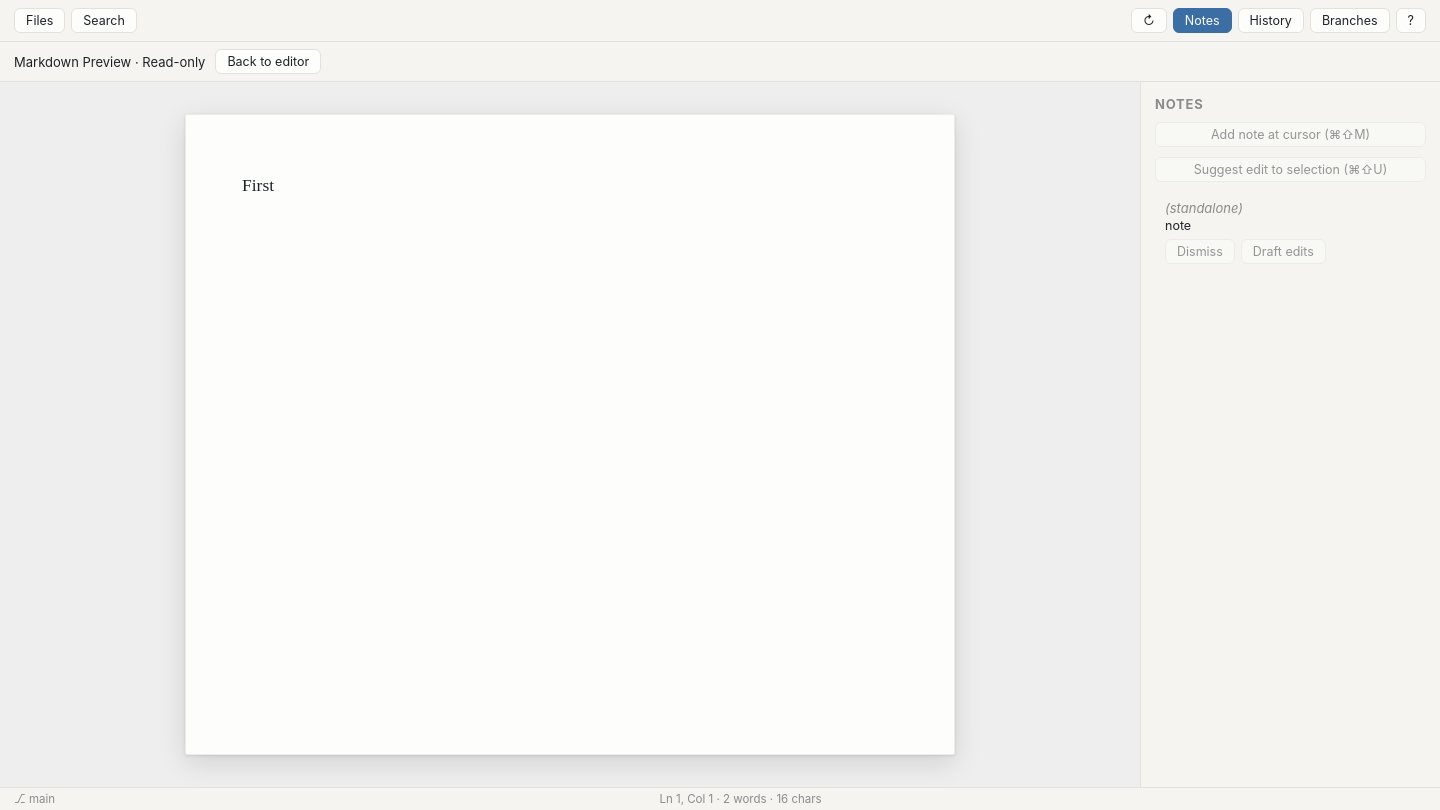
Test: disables note edits in preview and returns to the editor when navigating to a note
expect the button "Dismiss" is disabled: met, box [1165,239,1235,264]
Click the list item "(standalone) note Dismiss Draft edits": (1204,208) [1165,200,1326,264]
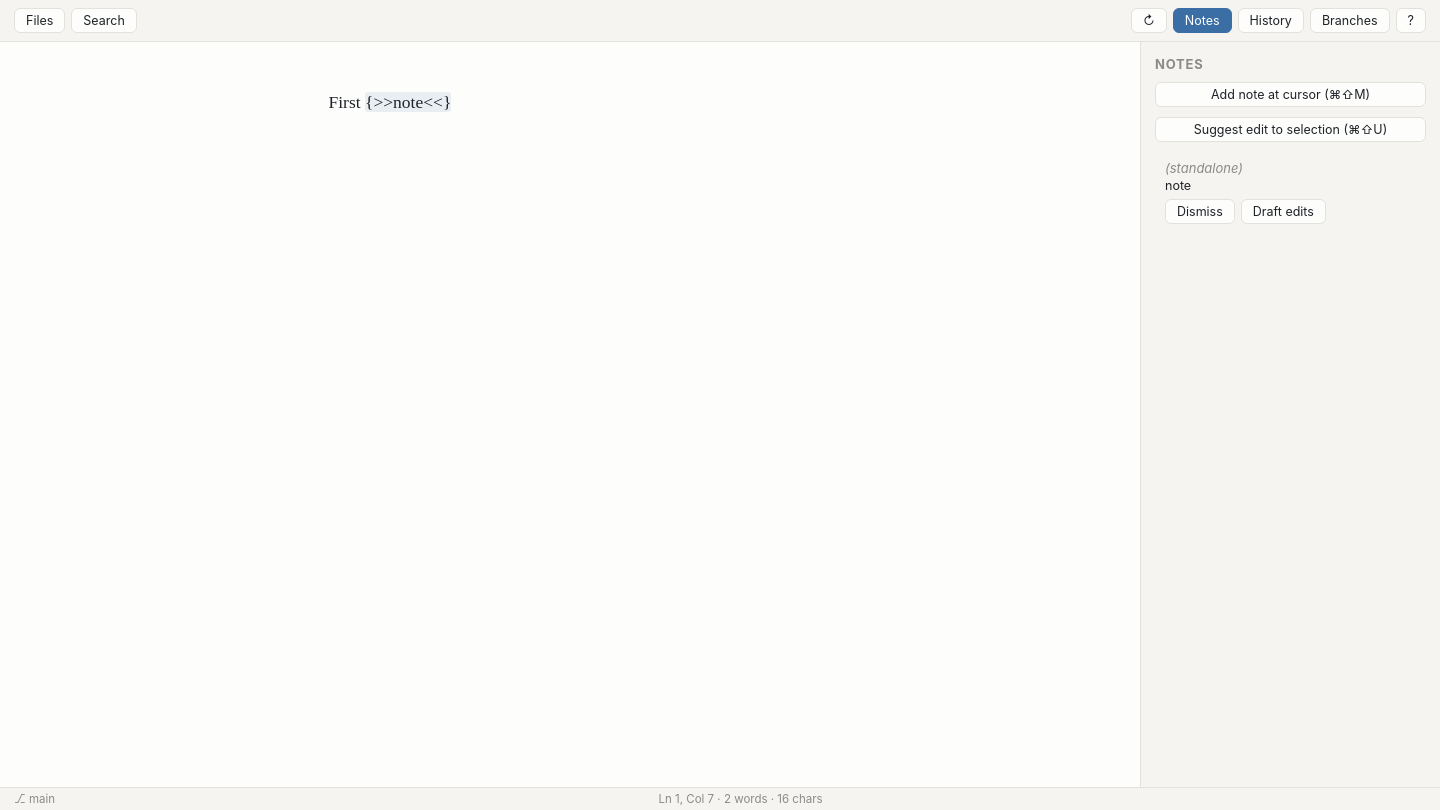
expect the button "Dismiss" is enabled: met, box [1165,199,1235,224]
